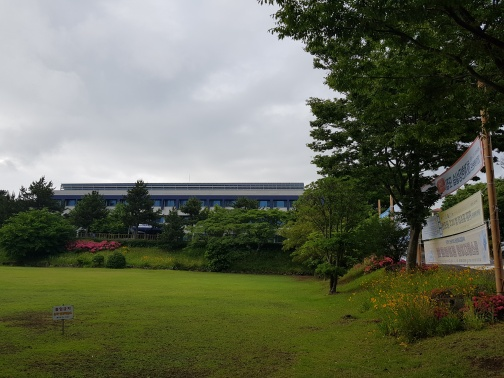College of Social Sciences: (50, 174, 307, 236)
